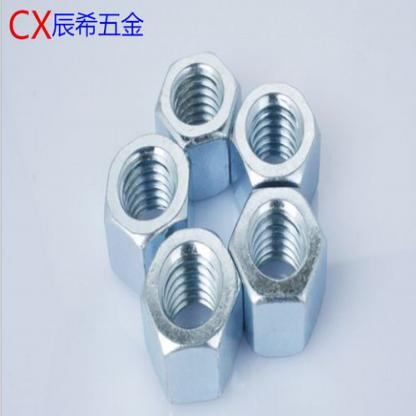FOD: (222, 181, 329, 361), (139, 225, 244, 405), (102, 130, 195, 291), (152, 48, 242, 203), (226, 80, 322, 213)
